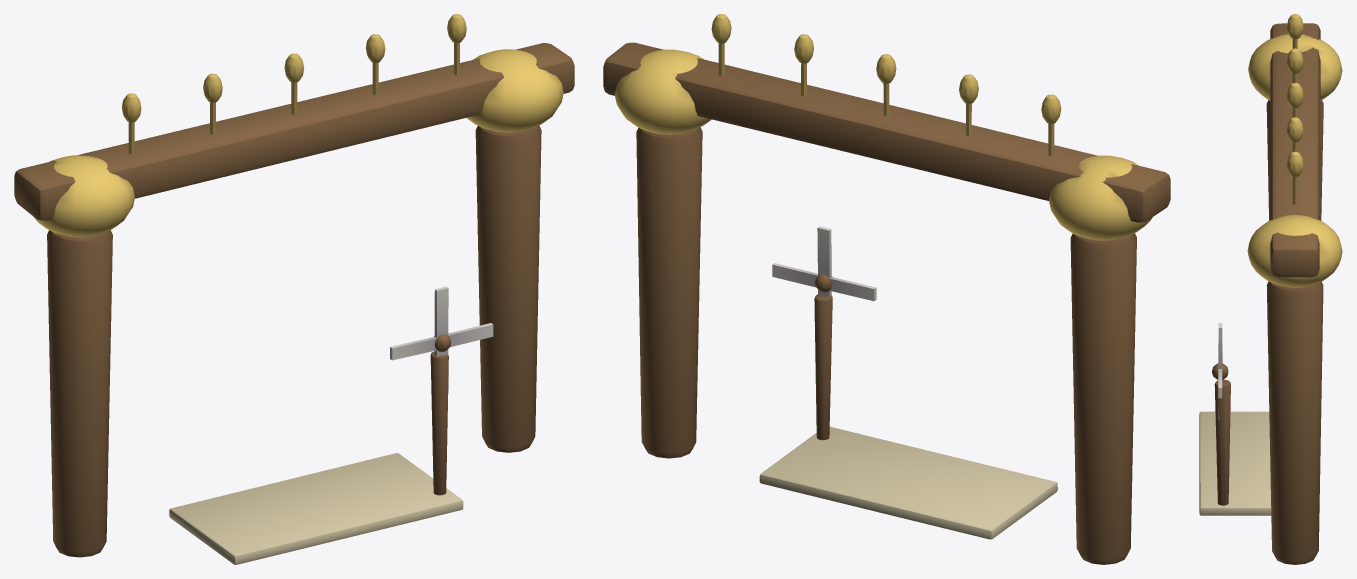
3 renders of one model, left to right at view 1: azimuth 30°, elevation 25°; view 2: azimuth 150°, elevation 25°; view 3: azimuth 270°, elevation 25°, orthographic. The views are drawn at different scales.
Visible parts, largest first — view 1: gate_c1ec5aa8; view 2: gate_c1ec5aa8; view 3: gate_c1ec5aa8.
Boxes of the visible parts, x1,y1,x2,y2 form: gate_c1ec5aa8: (14,14,574,564); gate_c1ec5aa8: (603,14,1170,564); gate_c1ec5aa8: (1199,14,1342,564).
Bounding box in the file's own units: 5.63 × 4.44 × 1.49.
